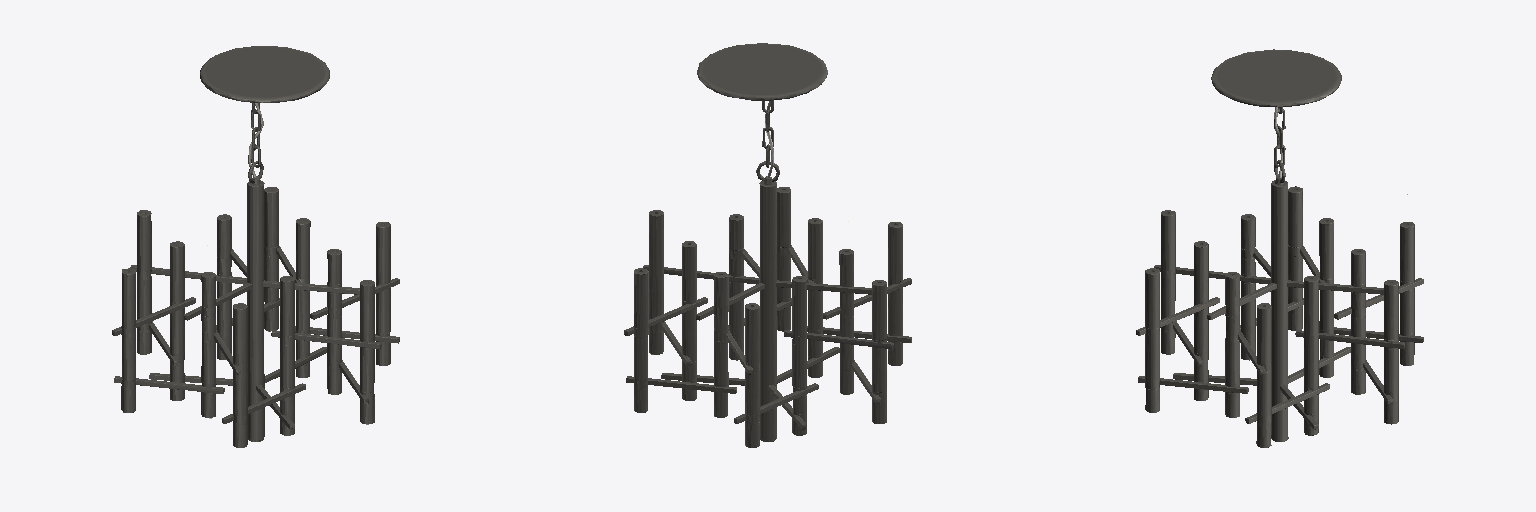
3 renders of one model, left to right at view 1: azimuth 30°, elevation 25°; view 2: azimuth 150°, elevation 25°; view 3: azimuth 270°, elevation 25°, orthographic.
Size of the model in its own units: 0.6574 by 0.8572 by 0.6111.
Materials: 1 (1 with a texture image).